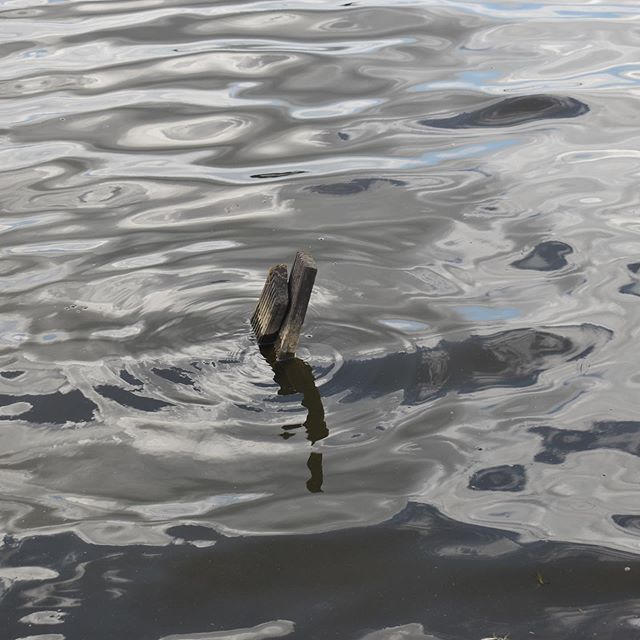river: (1, 1, 640, 640)
